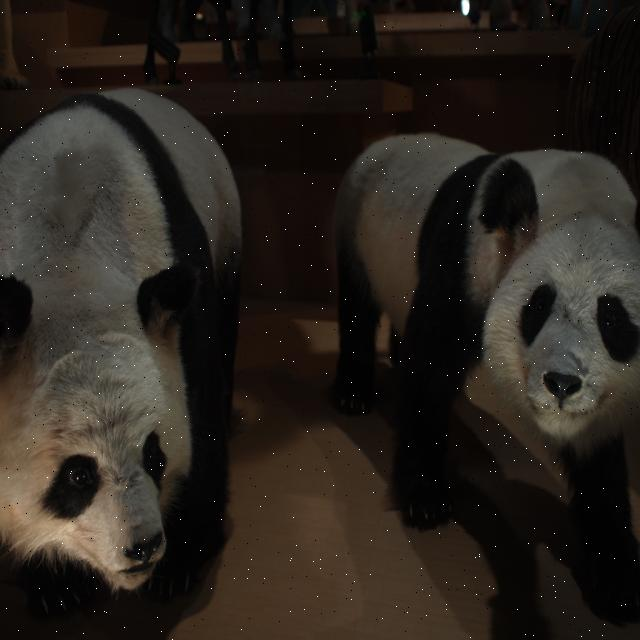panda: (331, 129, 636, 549)
